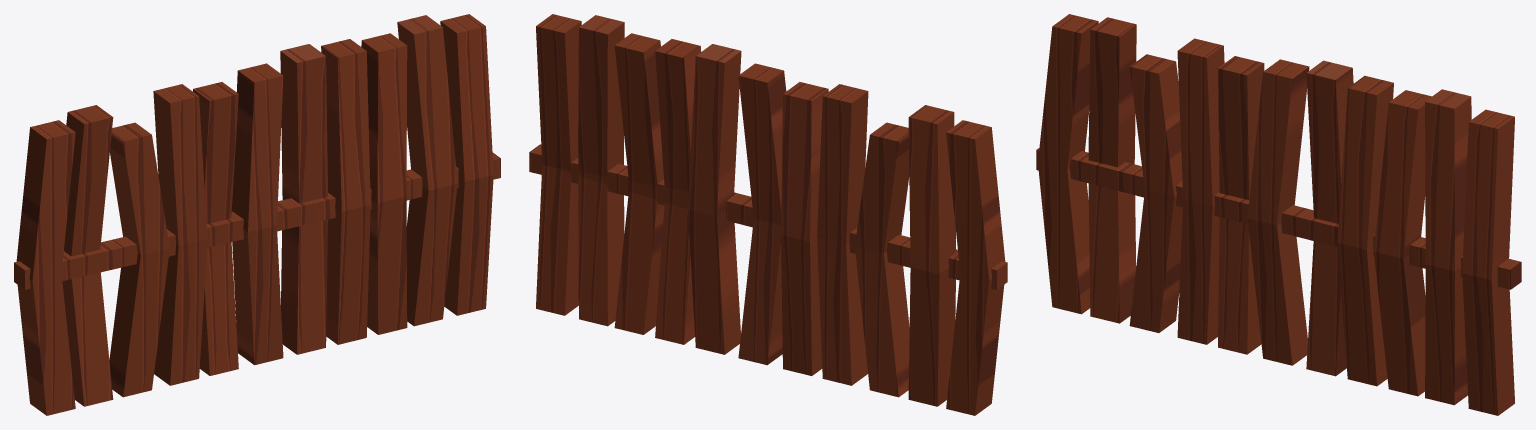
The model's file is Custom Fence.fbx.
3 views of the same model, side by side, from view 1: azimuth 30°, elevation 25°; view 2: azimuth 150°, elevation 25°; view 3: azimuth 330°, elevation 25° (orthographic).
Parts seen in each view (by area): view 1: Fence_Type4_Small_mesh; view 2: Fence_Type4_Small_mesh; view 3: Fence_Type4_Small_mesh.
Boxes of the visible parts, <box> form: Fence_Type4_Small_mesh: <box>14,14,500,415</box>; Fence_Type4_Small_mesh: <box>529,14,1007,415</box>; Fence_Type4_Small_mesh: <box>1036,14,1521,415</box>.
Bounding box in the file's own units: 334 × 197 × 36.36.
Materials: 1 (1 with a texture image).
